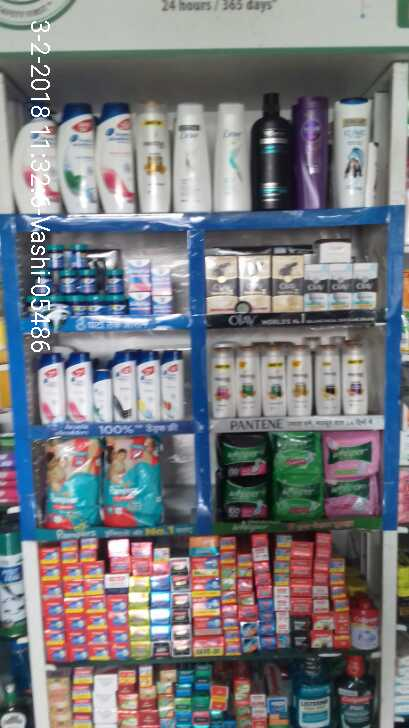beauty: (96, 101, 136, 216), (58, 101, 97, 217), (134, 96, 172, 214), (61, 352, 91, 425), (340, 341, 369, 414), (259, 346, 287, 419), (209, 344, 236, 419), (36, 353, 64, 425), (313, 346, 342, 415), (235, 344, 261, 419), (112, 351, 138, 424), (204, 256, 238, 311), (239, 257, 272, 312), (273, 252, 303, 311), (136, 349, 160, 420), (289, 347, 313, 417), (161, 349, 184, 419), (352, 262, 378, 312), (92, 366, 112, 423), (327, 264, 350, 309), (305, 266, 326, 312)
pharmacy: (100, 434, 169, 528), (40, 436, 104, 531), (322, 428, 387, 478), (269, 476, 325, 523), (220, 474, 270, 524), (323, 477, 381, 519), (269, 435, 326, 476), (219, 431, 269, 470), (123, 260, 150, 293), (145, 269, 174, 296), (123, 292, 151, 316), (56, 271, 79, 295), (43, 247, 64, 273), (68, 244, 88, 270), (86, 294, 108, 317), (104, 268, 122, 295), (151, 293, 171, 317), (78, 270, 97, 295), (70, 295, 86, 317), (108, 295, 126, 314)
